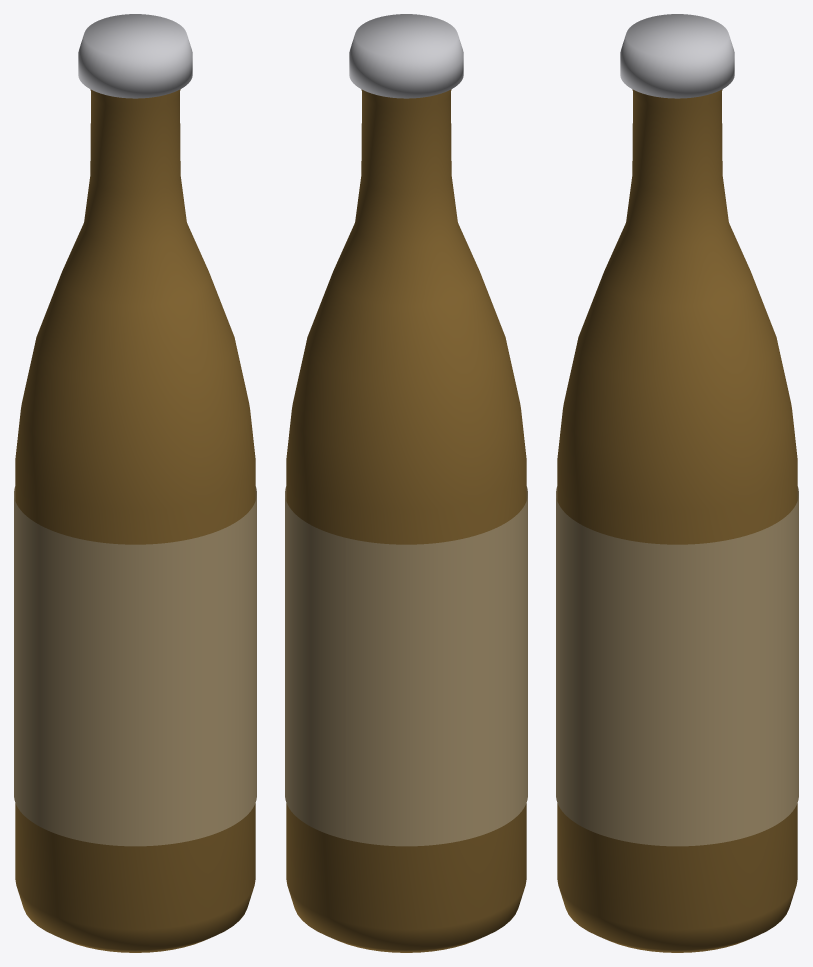
The model's file is beer_pale_minimal.glb.
3 renders of one model, left to right at view 1: azimuth 30°, elevation 25°; view 2: azimuth 150°, elevation 25°; view 3: azimuth 270°, elevation 25°, orthographic.
Parts seen in each view (by area): view 1: Glass, Label_band, Cap; view 2: Glass, Label_band, Cap; view 3: Glass, Label_band, Cap.
Boxes of the visible parts, x1,y1,x2,y2 form: Glass: (15,89,255,952); Label_band: (14,486,256,846); Cap: (78,14,192,98); Glass: (286,89,526,952); Label_band: (285,486,527,846); Cap: (349,14,463,98); Glass: (557,89,797,952); Label_band: (556,486,798,846); Cap: (620,14,734,98).
Size of the model in its own units: 0.0657 by 0.2615 by 0.0657.
